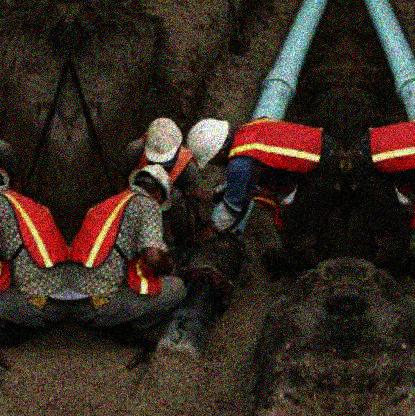helmet: (186, 117, 235, 170), (129, 164, 171, 214), (144, 117, 184, 163)
